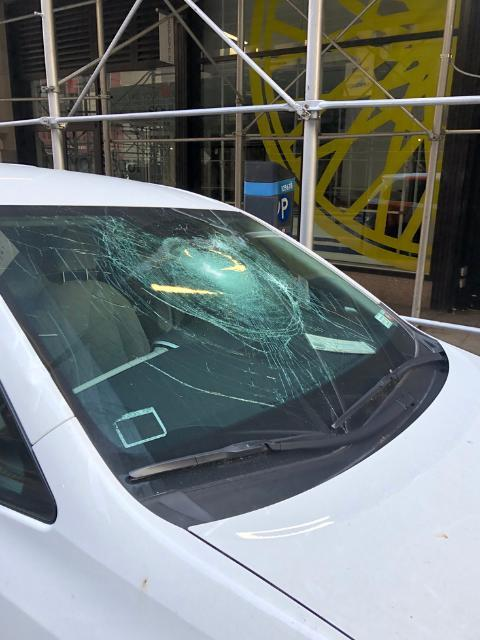Windshield: (0, 204, 420, 435)
